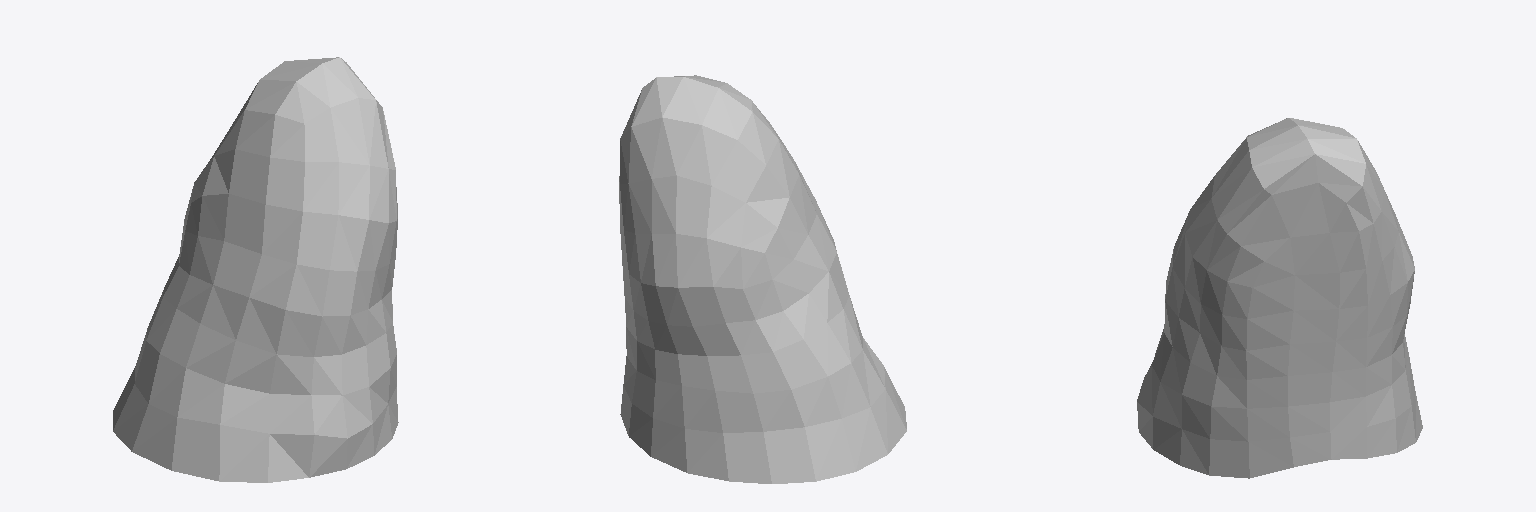
File: stone3.obj
3 views of the same model, side by side, from view 1: azimuth 30°, elevation 25°; view 2: azimuth 150°, elevation 25°; view 3: azimuth 270°, elevation 25° (orthographic).
Parts seen in each view (by area): view 1: stone3_Group1.010; view 2: stone3_Group1.010; view 3: stone3_Group1.010.
Part boxes in pixels (left/top/right/bottom): stone3_Group1.010: left=113, top=57, right=398, bottom=482; stone3_Group1.010: left=619, top=75, right=906, bottom=483; stone3_Group1.010: left=1137, top=118, right=1422, bottom=478.
Bounding box in the file's own units: 1.37 × 1.8 × 1.39.